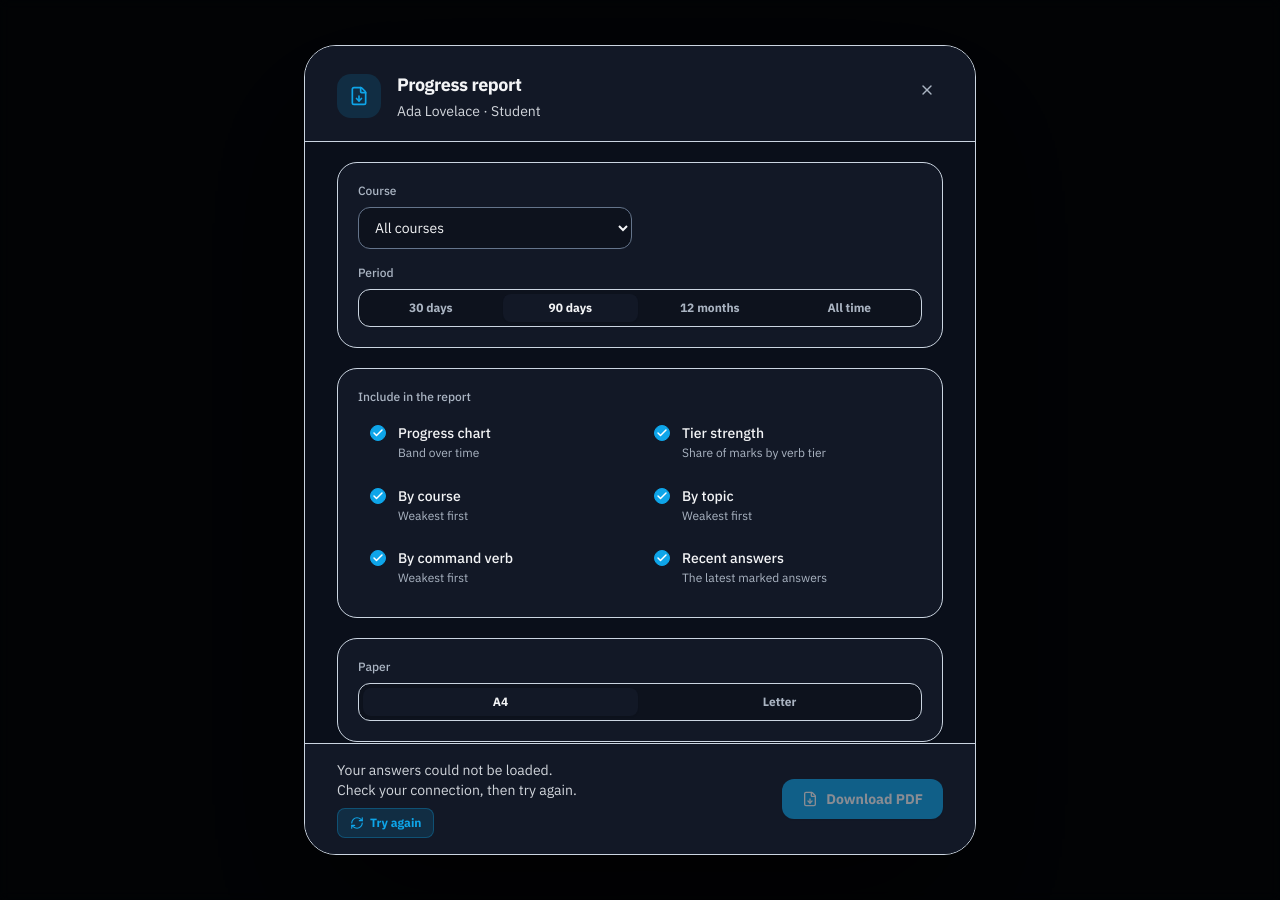
it: the student flow › shows the error with a retry, which reads the history again
The width and height of the screenshot is (1280, 900).
Expected: the text "could not be loaded" is shown, [337,761,577,799]
Expected: the button "Download PDF" is disabled, [782,779,943,819]
Click the button "Try again" at (386, 823), box [337,808,434,838]
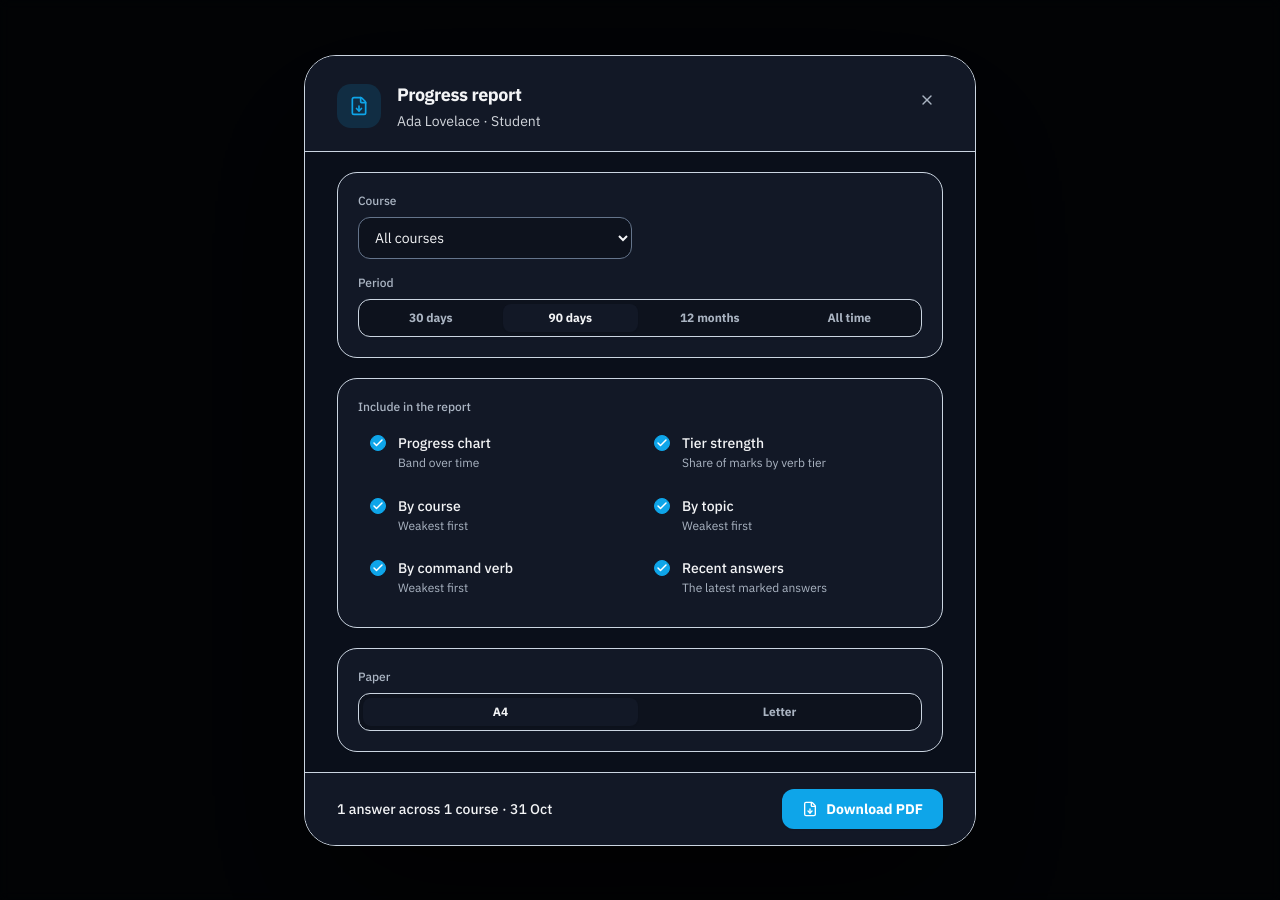
Now the button "Download PDF" is enabled, box [782,788,943,828]
